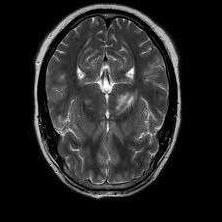Normal_Brain: (1, 1, 206, 222)
